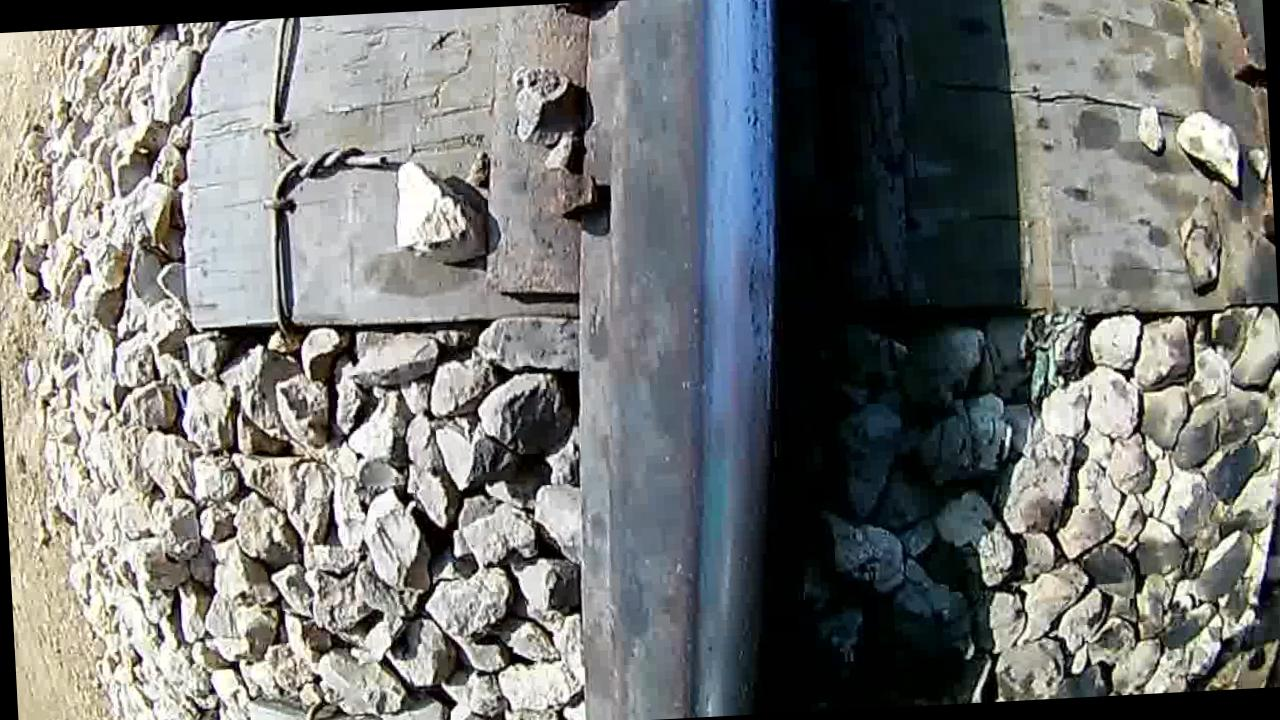crack: (602, 0, 810, 703)
